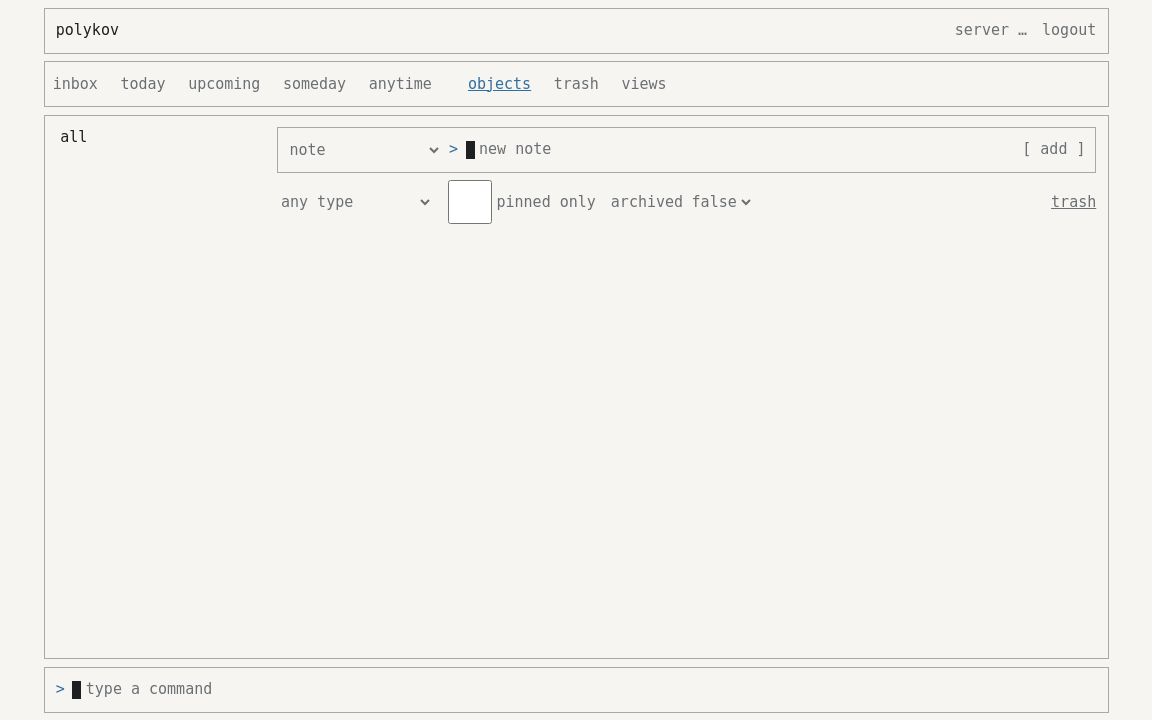
it: logout › stays in the shell and shows the cause when logout fails
The width and height of the screenshot is (1152, 720).
Click the button "logout" at (1069, 30), box 1035,8 -> 1104,52
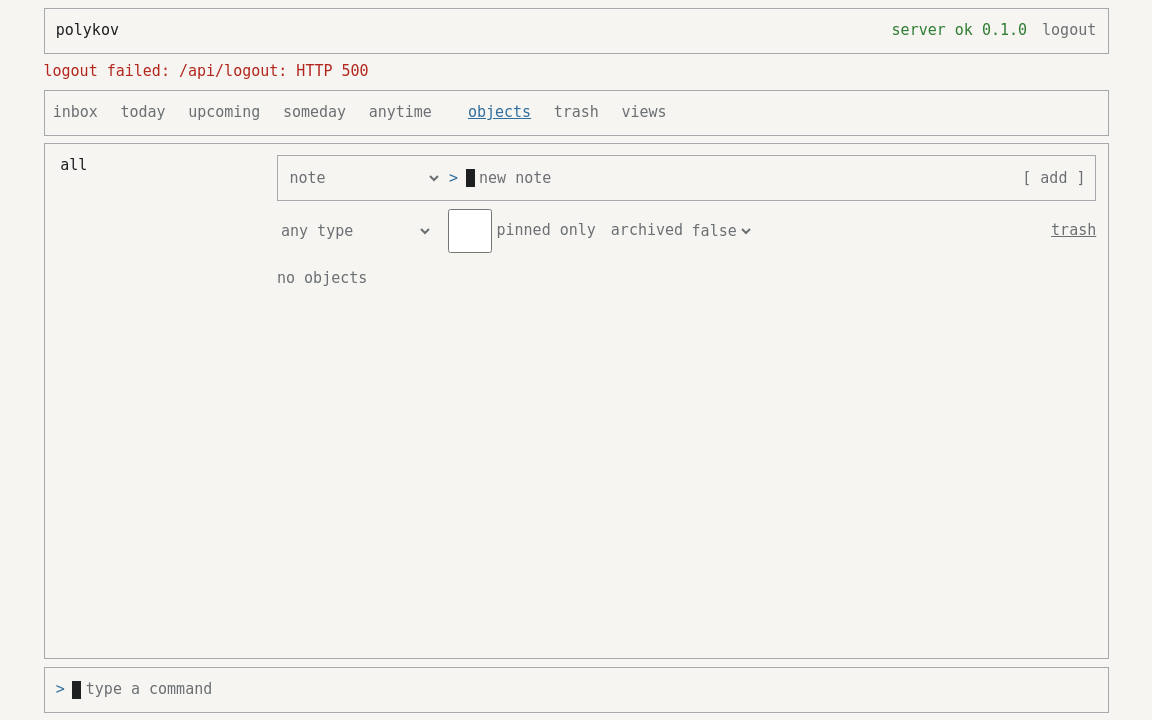
Expected: the message "logout failed: /api/logout: HTTP 500" is shown, 44,62 -> 369,80
